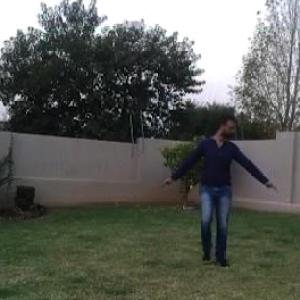land: (146, 94, 296, 292)
